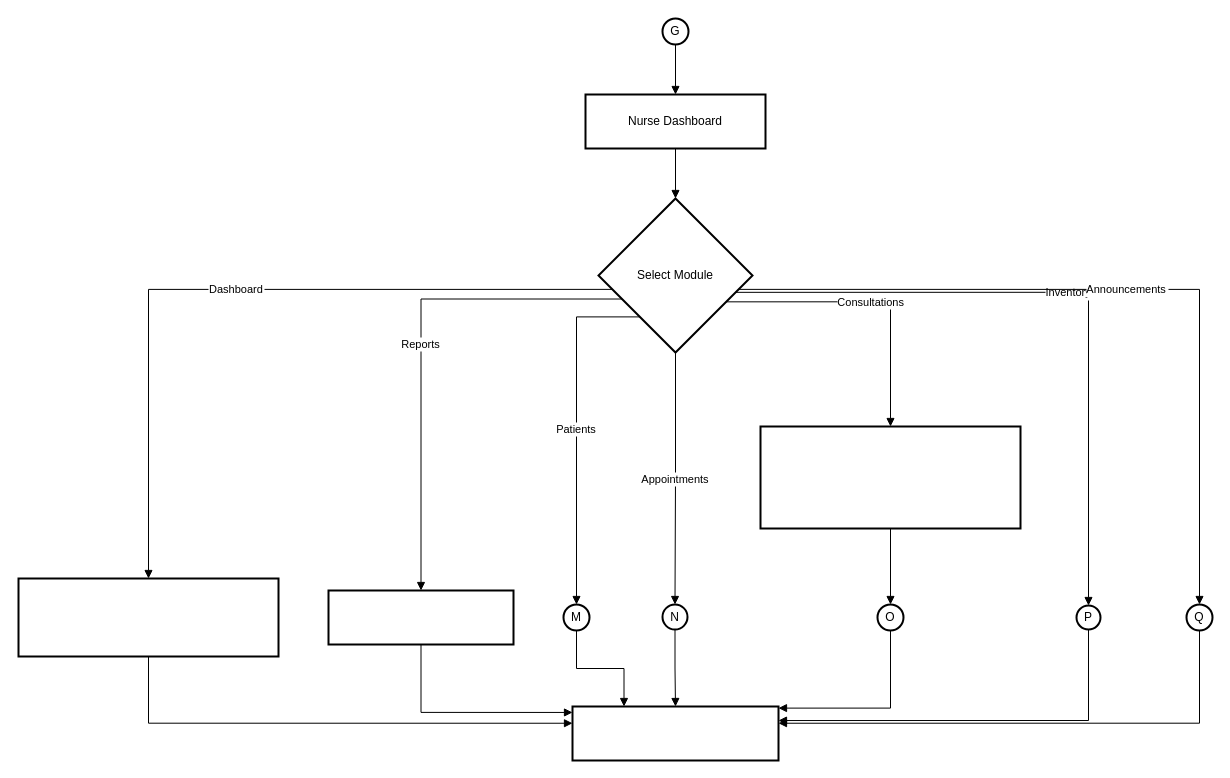
Some shapes in this 1230 by 778 pixel diagram are drawn without their labels. The centre of each missing label's shape, as x and y in pixels:
Generate Reports: the point at 420,617
Open Consultations with priority lane and normal queue: the point at 890,477
Return to Dashboard: the point at 675,733
View Clinic Stats and Activities: the point at 148,617
